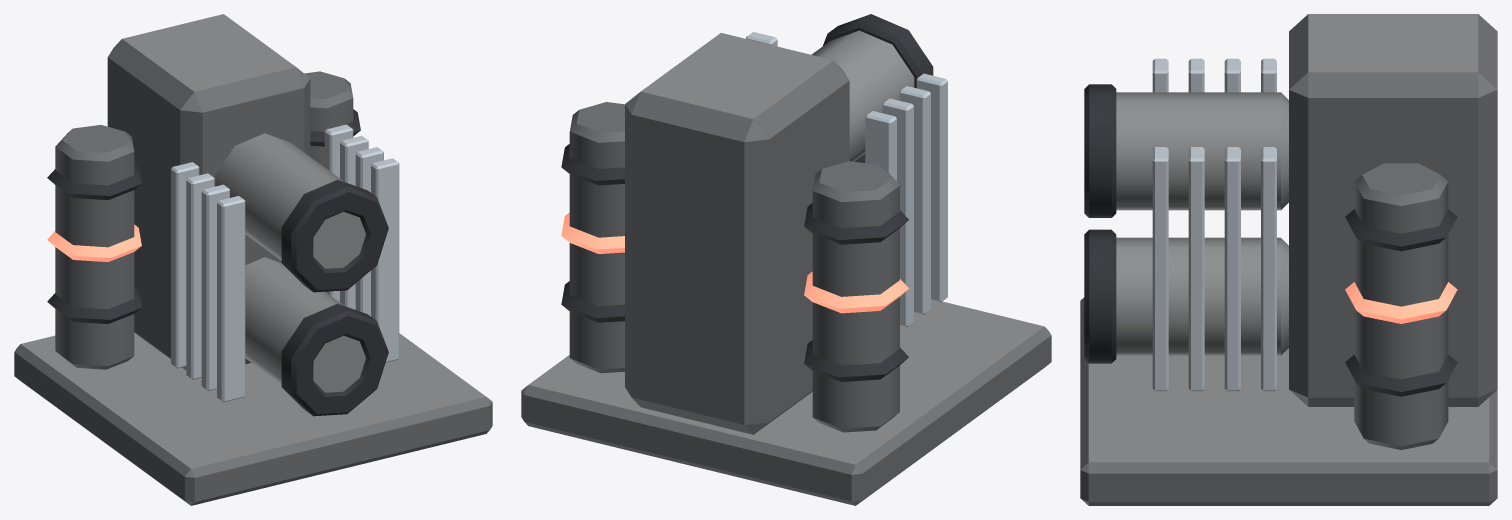
File: R4X_DoubleShotOverdrive_LOD1.glb
3 renders of one model, left to right at view 1: azimuth 30°, elevation 25°; view 2: azimuth 150°, elevation 25°; view 3: azimuth 270°, elevation 25°, orthographic. The views are drawn at different scales.
Parts seen in each view (by area): view 1: R4X_DoubleShotOverdrive_LOD1; view 2: R4X_DoubleShotOverdrive_LOD1; view 3: R4X_DoubleShotOverdrive_LOD1.
Boxes of the visible parts, x1,y1,x2,y2 form: R4X_DoubleShotOverdrive_LOD1: (14,14,492,505); R4X_DoubleShotOverdrive_LOD1: (521,14,1051,505); R4X_DoubleShotOverdrive_LOD1: (1080,14,1497,505).
Size of the model in its own units: 0.52 by 0.52 by 0.52.
